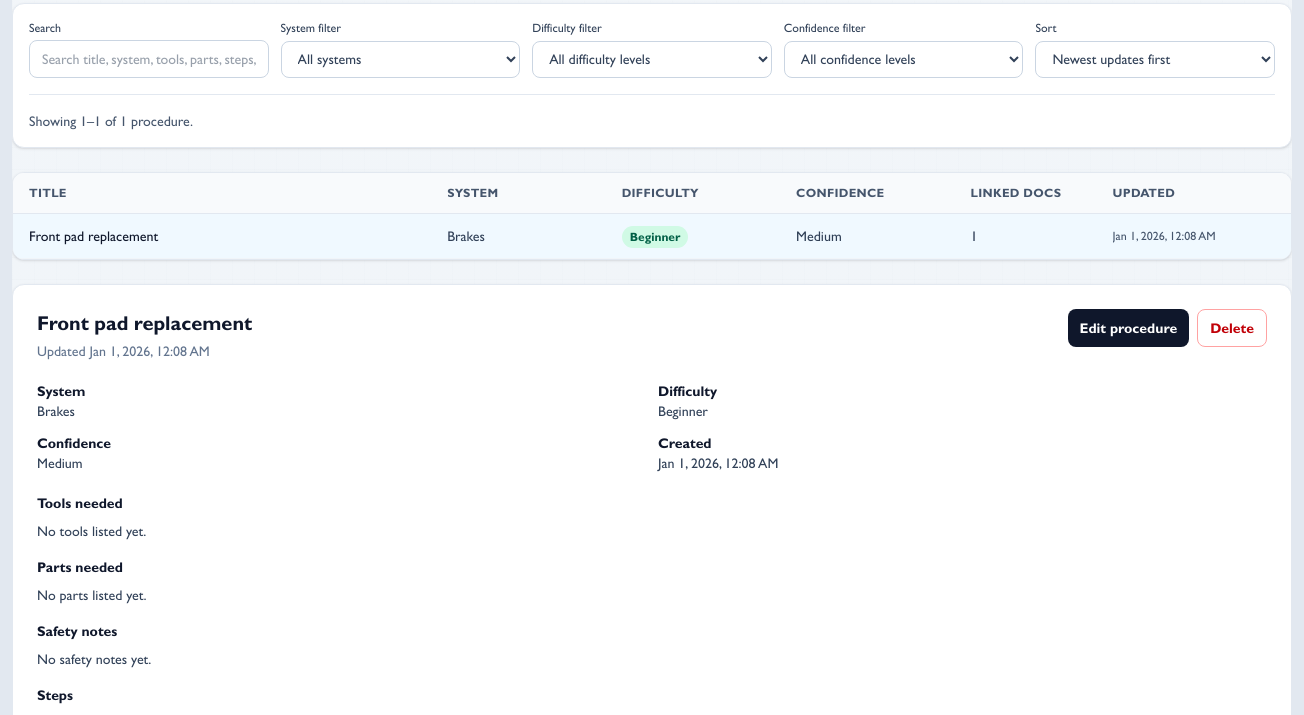
Test case: Procedures keeps a linked document the picker's first page does not show
The width and height of the screenshot is (1304, 715).
(page scrolled)
Click the button "Edit procedure". click: click(1128, 328)
box: [1068, 309, 1189, 347]
(page scrolled)
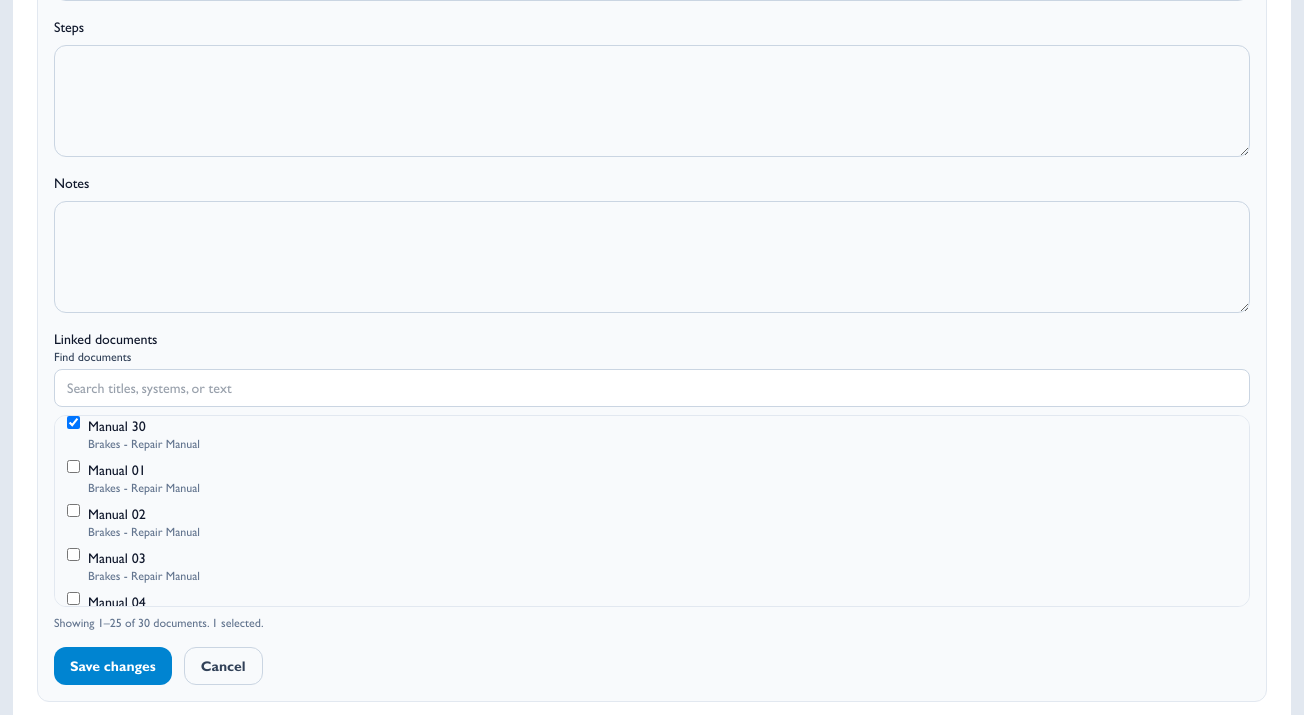
Expected: the checkbox labelled "Manual 30 Brakes - Repair Manual" is checked, [67, 416, 80, 429]
Click the checkbox labelled "Manual 02 Brakes - Repair Manual". click: click(74, 510)
box: [67, 504, 80, 517]
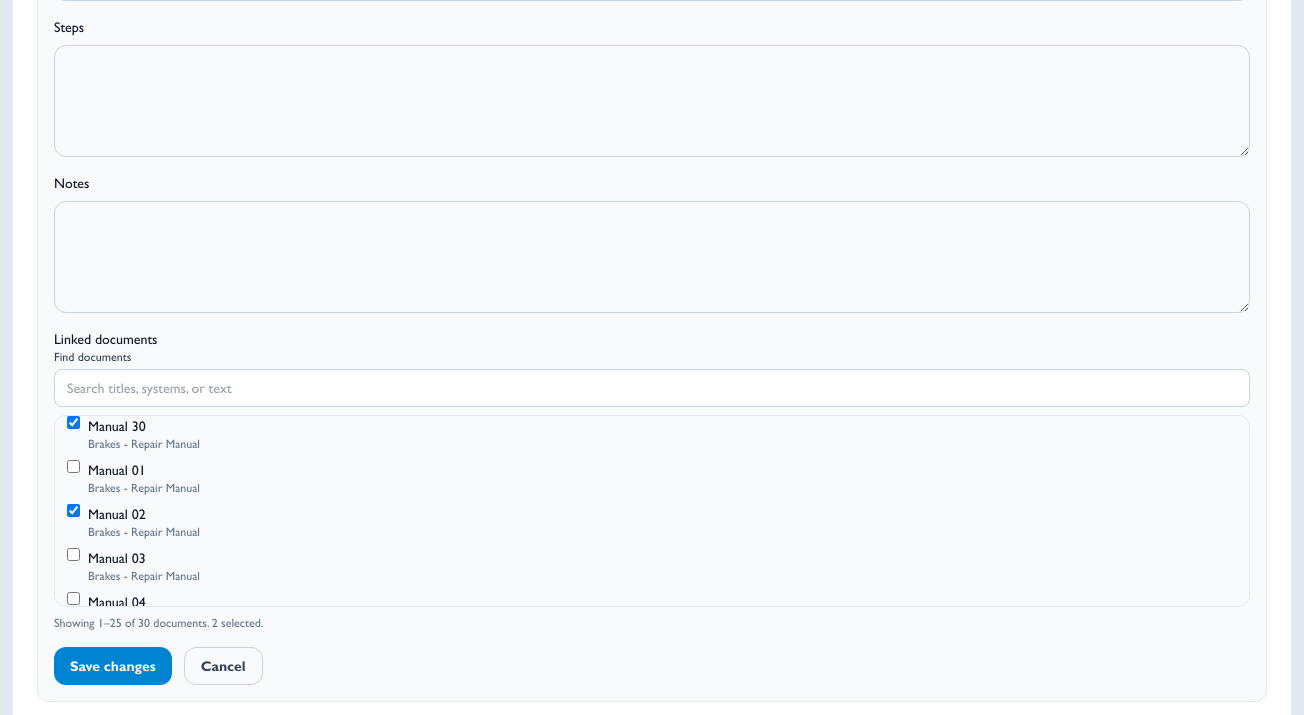
Click the button "Save changes". click: click(113, 666)
box: [54, 647, 172, 685]
(page scrolled)
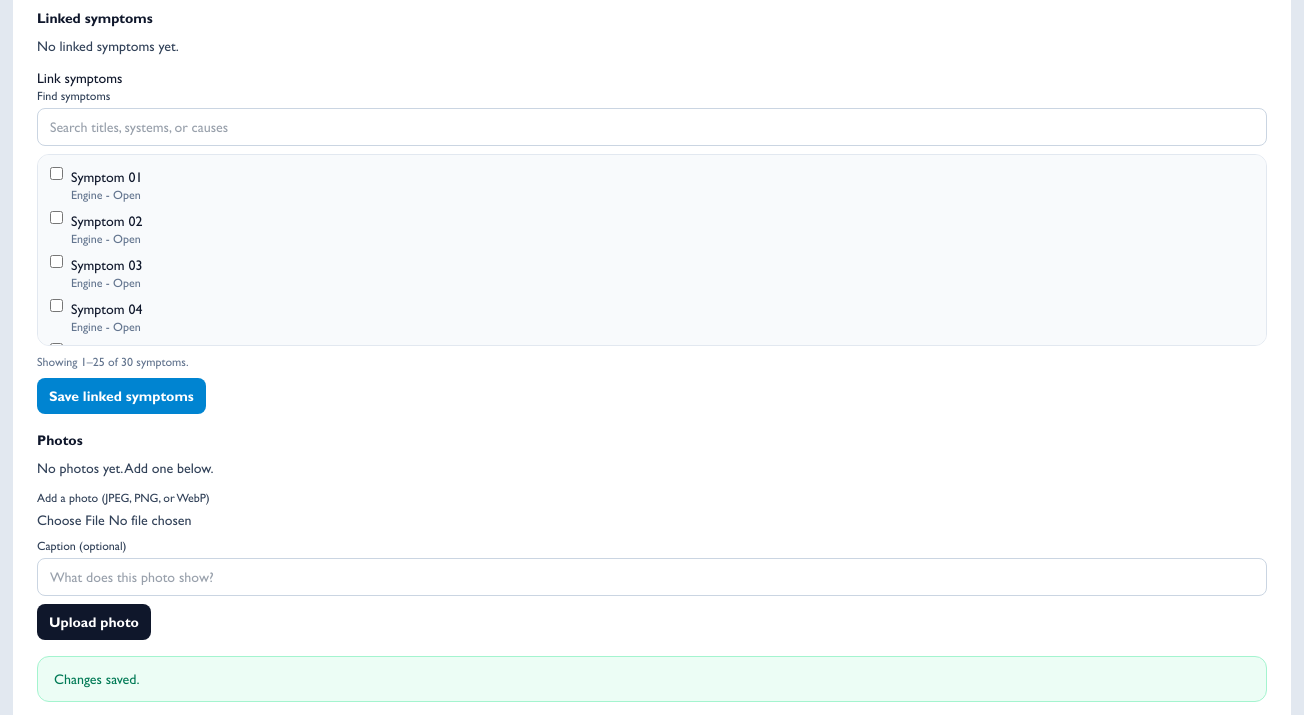
Expected: the text "Changes saved." is shown, [37, 656, 1267, 702]
